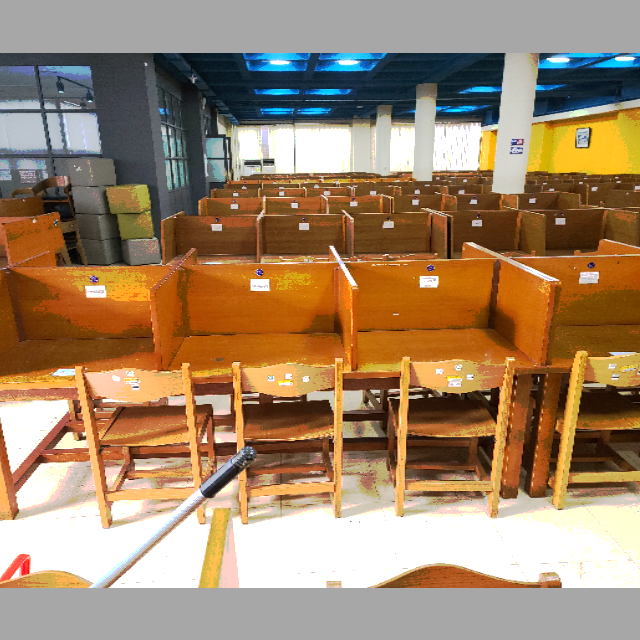empty: (360, 253, 553, 446), (169, 252, 353, 443), (1, 256, 163, 430)
